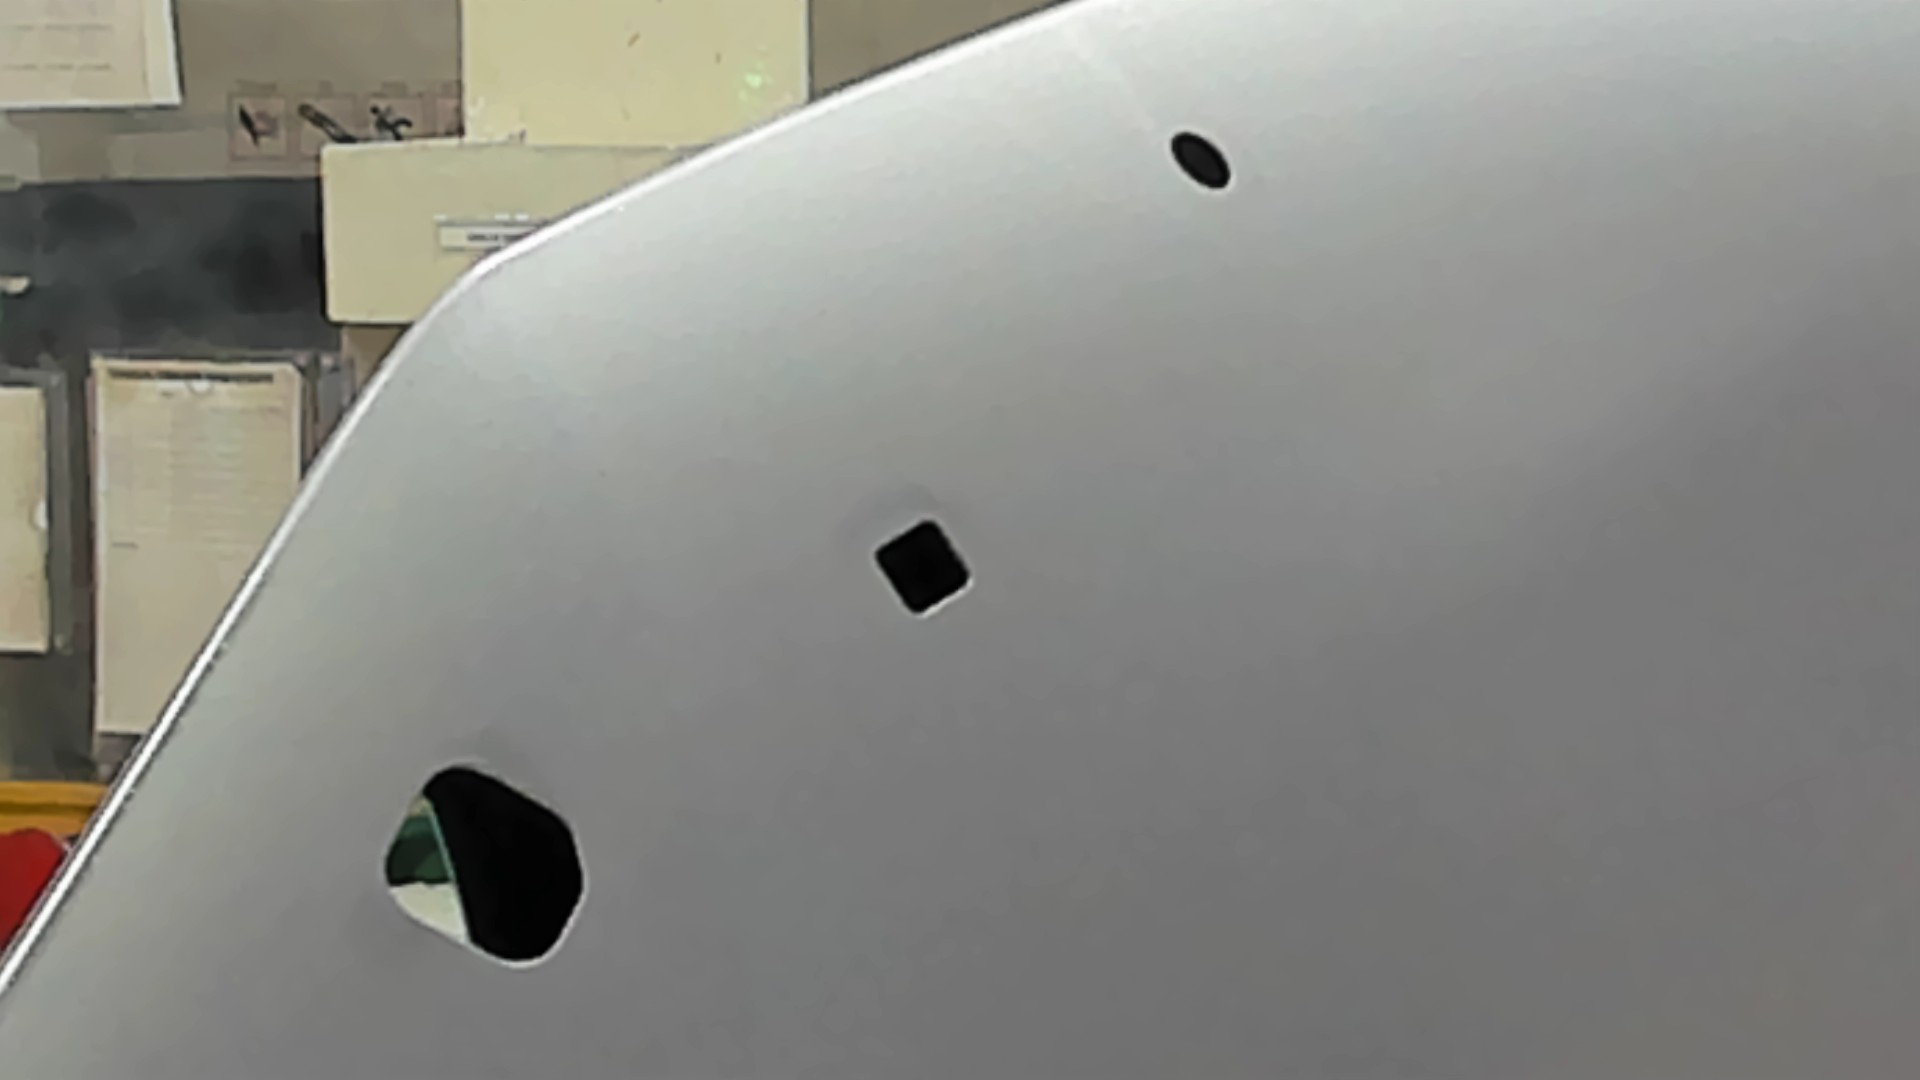chico: (1159, 124, 1241, 200)
grande: (348, 752, 605, 992)
mediano: (865, 502, 982, 622)
